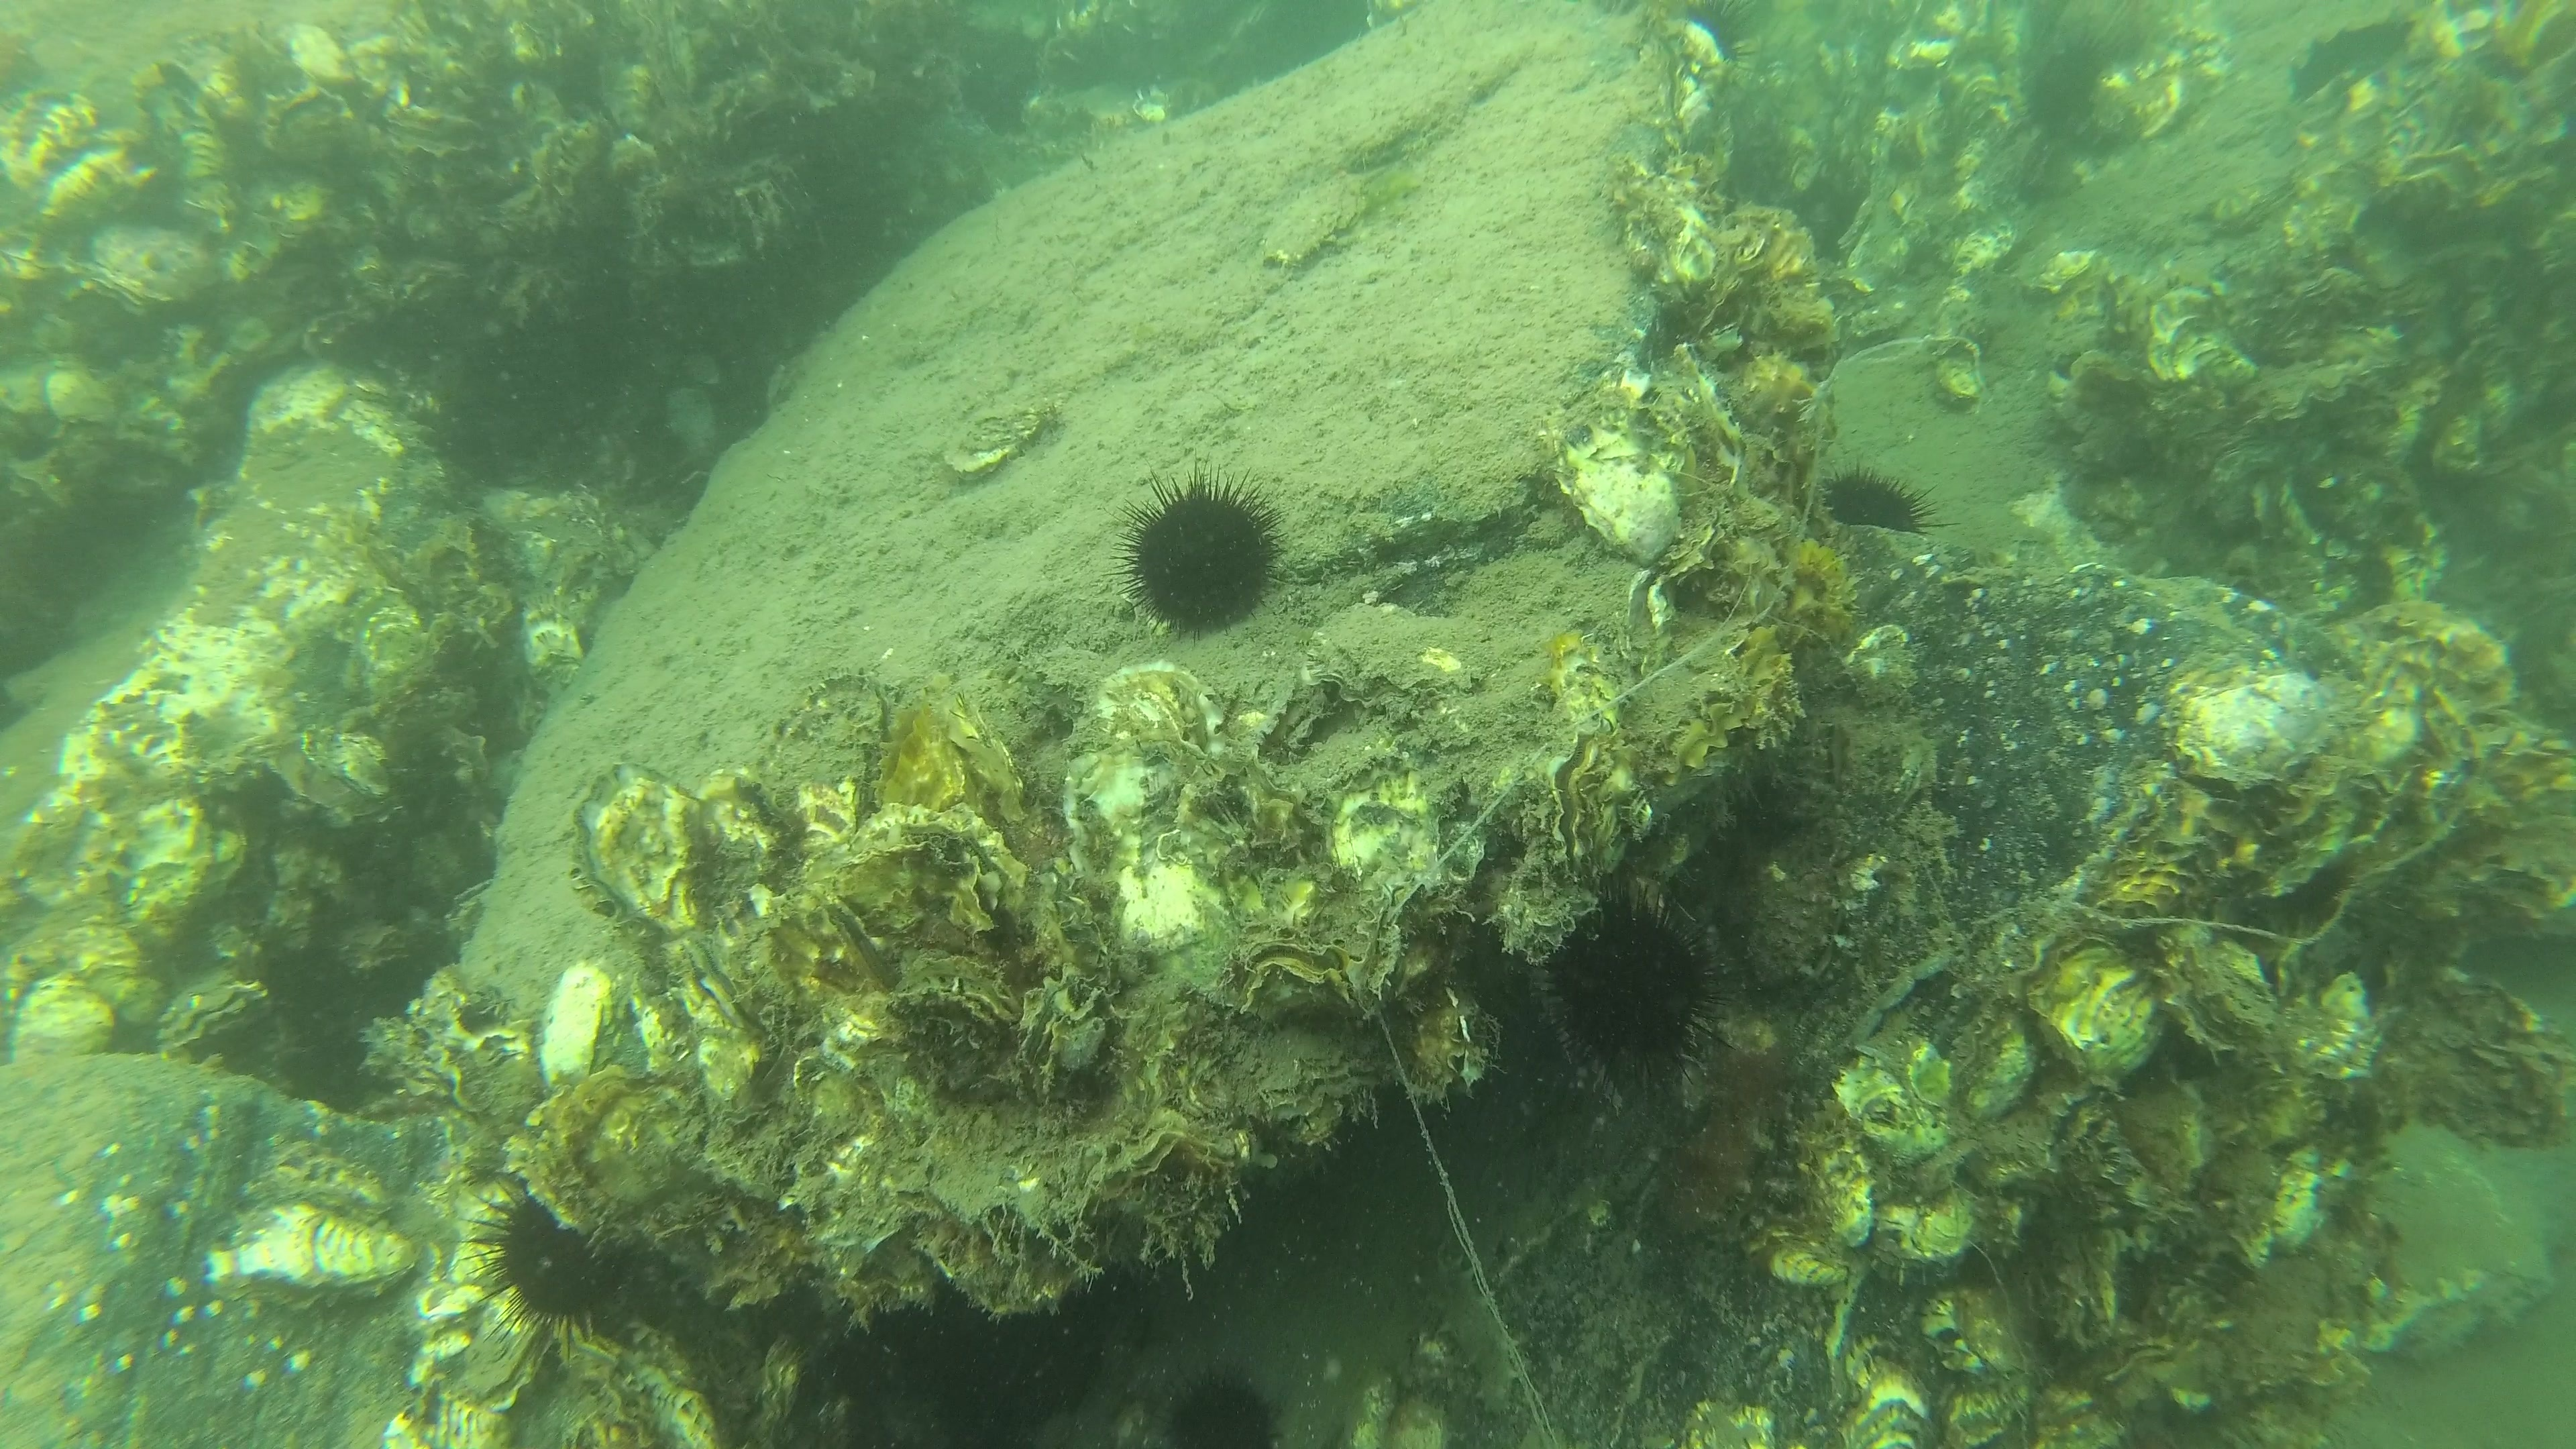echinus: (1537, 890, 1743, 1104), (451, 1177, 637, 1366), (1108, 467, 1299, 648), (1810, 455, 1941, 543), (1150, 1364, 1286, 1449)
